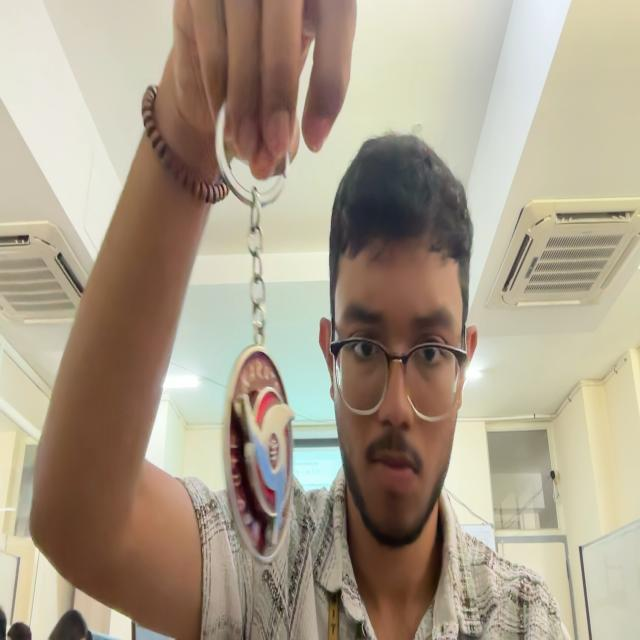dangerous: (216, 104, 294, 562)
